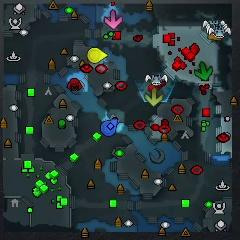p1: (101, 117, 118, 135)
p4: (87, 47, 108, 63)
x1: (105, 10, 122, 29)
x2: (145, 88, 163, 106)
x4: (195, 60, 214, 81)
x5: (207, 31, 224, 43)
